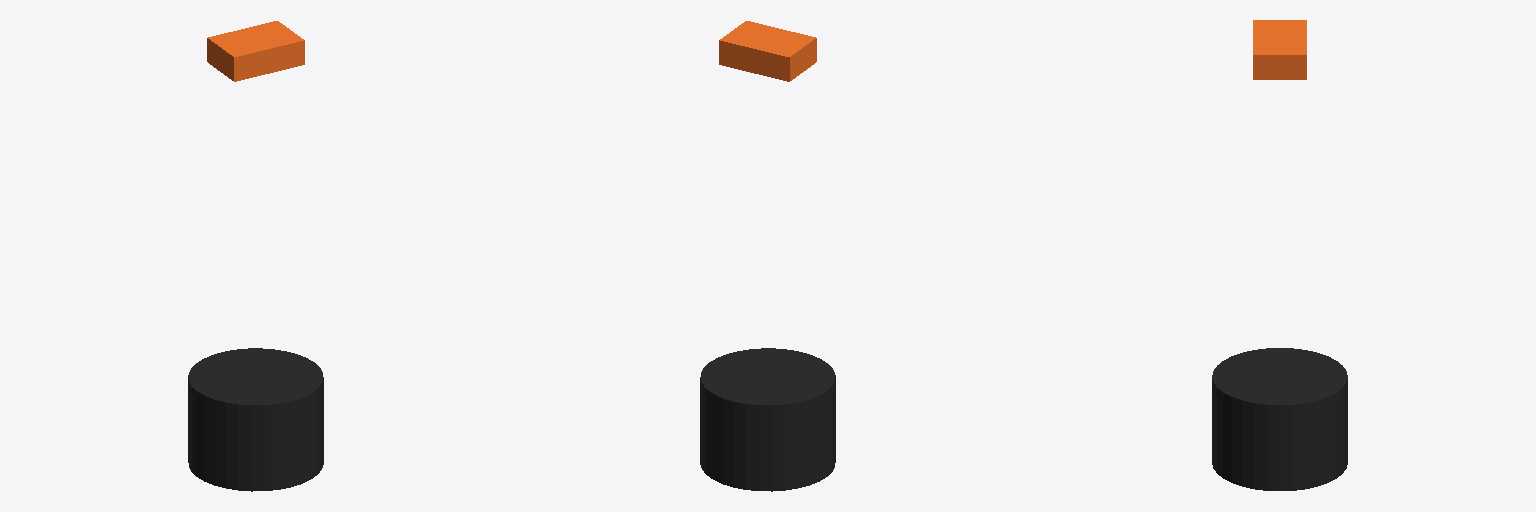
robot.urdf — cartographer_backpack_3d:
<robot name="cartographer_backpack_3d">
  <material name="orange">
    <color rgba="1.0 0.5 0.2 1" />
  </material>
  <material name="gray">
    <color rgba="0.2 0.2 0.2 1" />
  </material>

  <link name="imu_link">
    <visual>
      <origin xyz="0.0 0.0 0.0" />
      <geometry>
        <box size="0.06 0.04 0.02" />
      </geometry>
      <material name="orange" />
    </visual>
  </link>

  <link name="velodyne_link">
    <visual>
      <origin xyz="0.0 0.0 0.0" />
      <geometry>
        <cylinder length="0.07" radius="0.05" />
      </geometry>
      <material name="gray" />
    </visual>
  </link>

  <link name="base_link" />

  <joint name="imu_link_joint" type="fixed">
    <parent link="base_link" />
    <child link="imu_link" />
    <origin xyz="0 0 1.2" rpy="0 0 0" />
  </joint>

  <joint name="velodyne_joint" type="fixed">
    <parent link="base_link" />
    <child link="velodyne_link" />
    <origin xyz="0.0 0.0 0.9" rpy="0.0 0.0 0.0" />
  </joint>

</robot>

--- What the picture shows (computed from the rendered views, not written in the file) ---
The picture shows the robot from 3 angles, left to right: view 1: azimuth 30°, elevation 25°; view 2: azimuth 150°, elevation 25°; view 3: azimuth 270°, elevation 25°; orthographic projection.
Robot: cartographer_backpack_3d — 3 links, 2 joints (2 fixed); root link base_link; default pose: every joint at zero.
Links seen in each view (by area): view 1: velodyne_link, imu_link; view 2: velodyne_link, imu_link; view 3: velodyne_link, imu_link.
Boxes of the visible links, x1,y1,x2,y2 form: velodyne_link: (188, 348, 323, 491); imu_link: (207, 21, 304, 81); velodyne_link: (700, 348, 835, 491); imu_link: (719, 21, 816, 81); velodyne_link: (1212, 348, 1347, 490); imu_link: (1253, 20, 1306, 79).
Size in the robot's own frame: 0.1 by 0.1 by 0.345 metres.
Geometry: primitives only (box / cylinder / sphere), no mesh files.